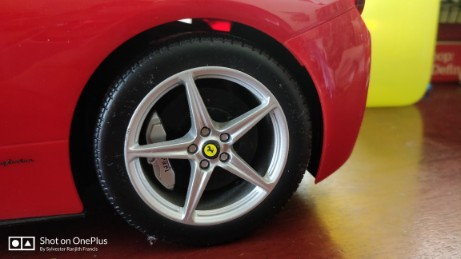aligned_wheel: (93, 40, 305, 245)
